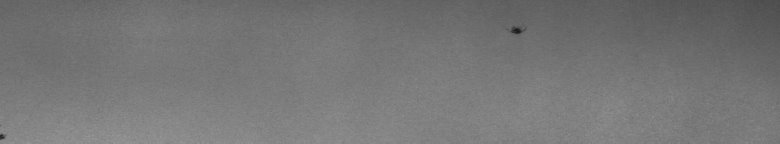fi: (505, 20, 528, 44)
